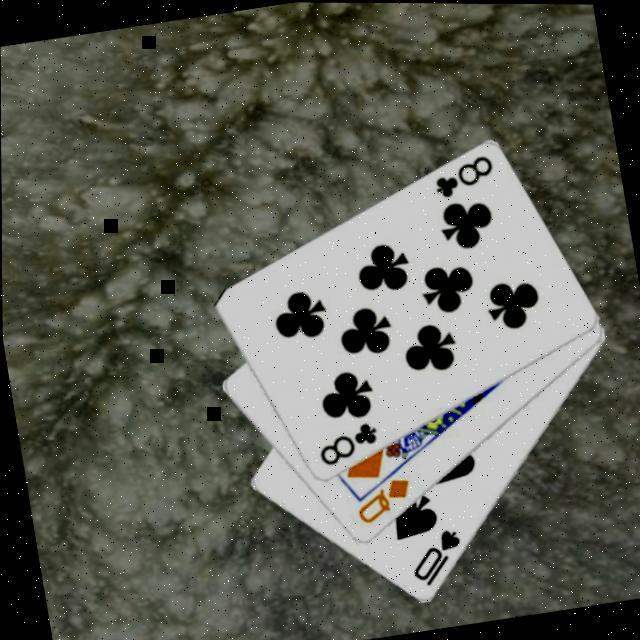10S: (401, 526, 468, 594)
8C: (310, 419, 382, 473), (425, 152, 497, 204)
QD: (347, 475, 415, 530)
